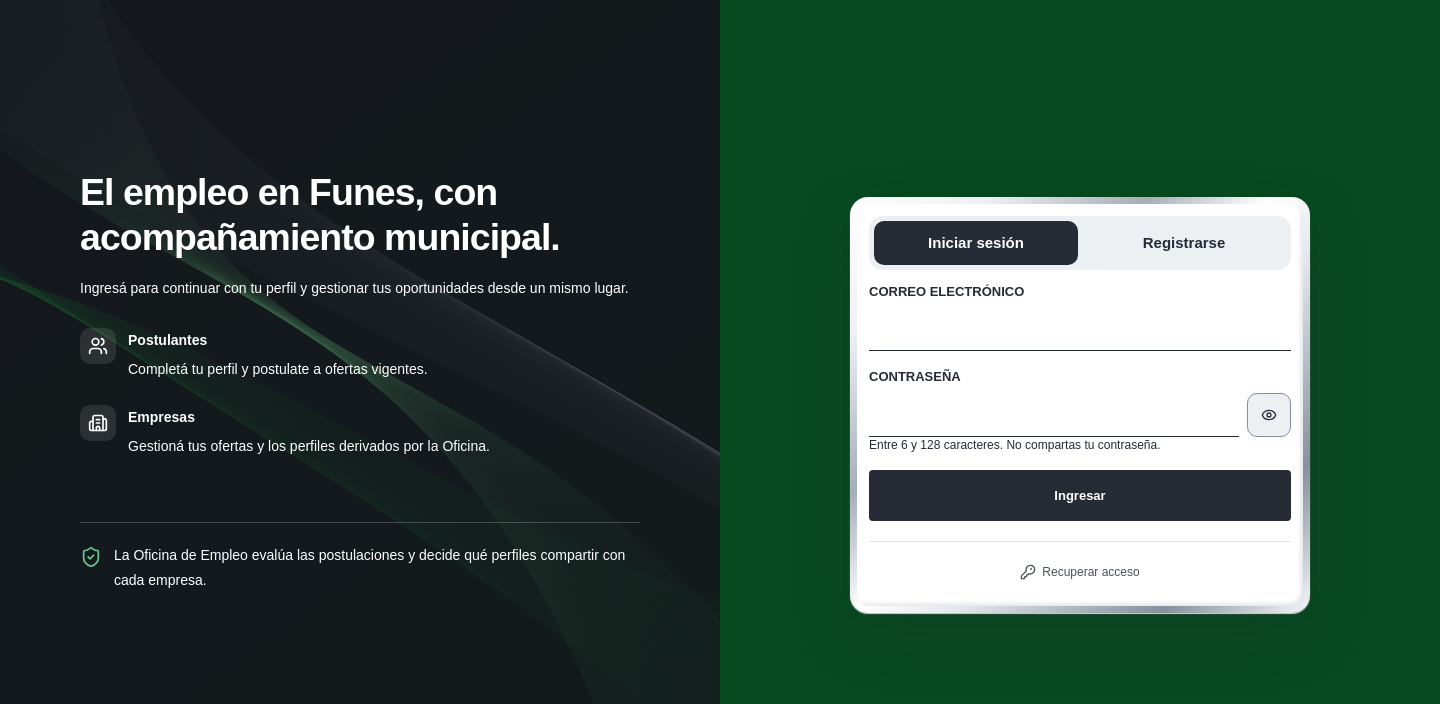
Home access panel › switches between candidate and company registration and back to sign-in
Click the button "Registrarse".
click(1184, 243)  # box [1082,221,1286,265]
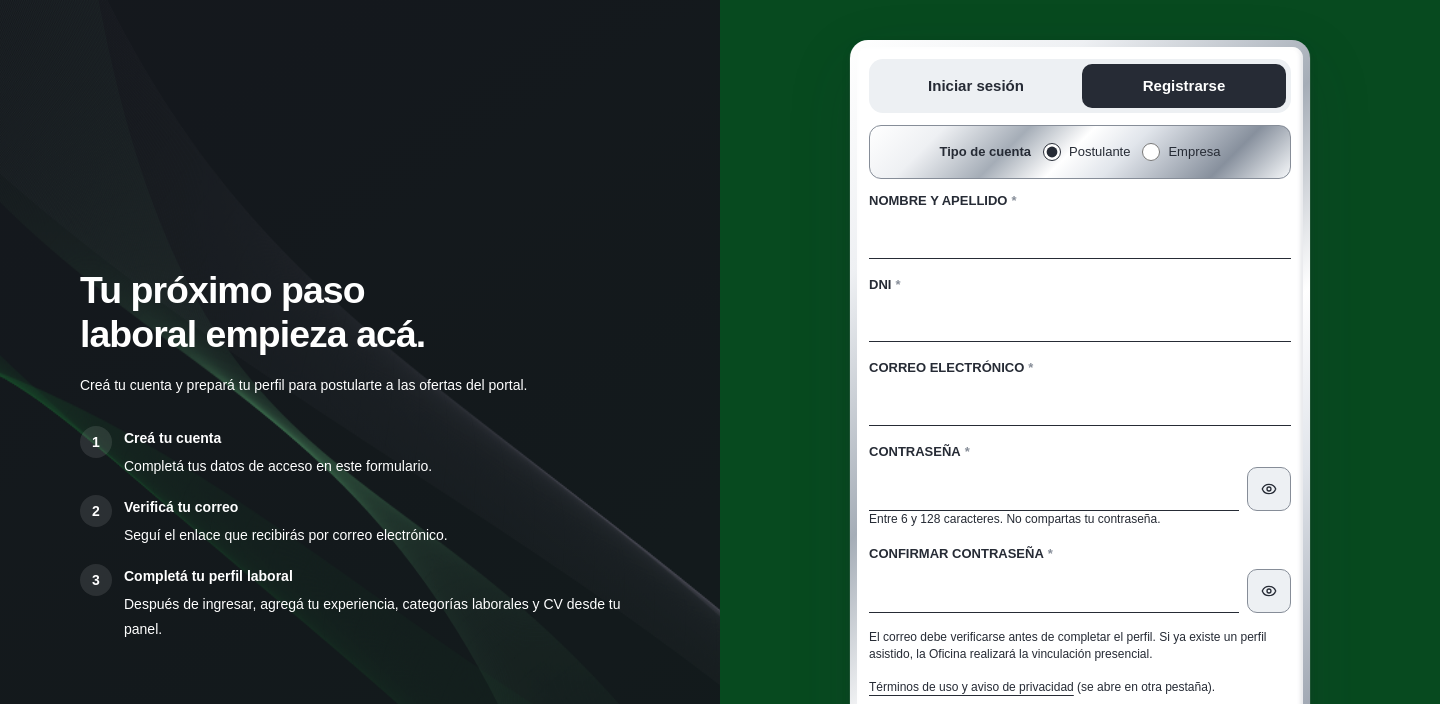
Expected: the element "Tipo de cuenta" is shown, [869,125,1291,179]
Expected: the radio button labelled "Postulante" is checked, [1043,143,1061,161]
Expected: the field labelled "DNI" is shown, [869,298,1291,342]
Click the radio button labelled "Empresa".
click(1152, 152)  # box [1142,143,1160,161]
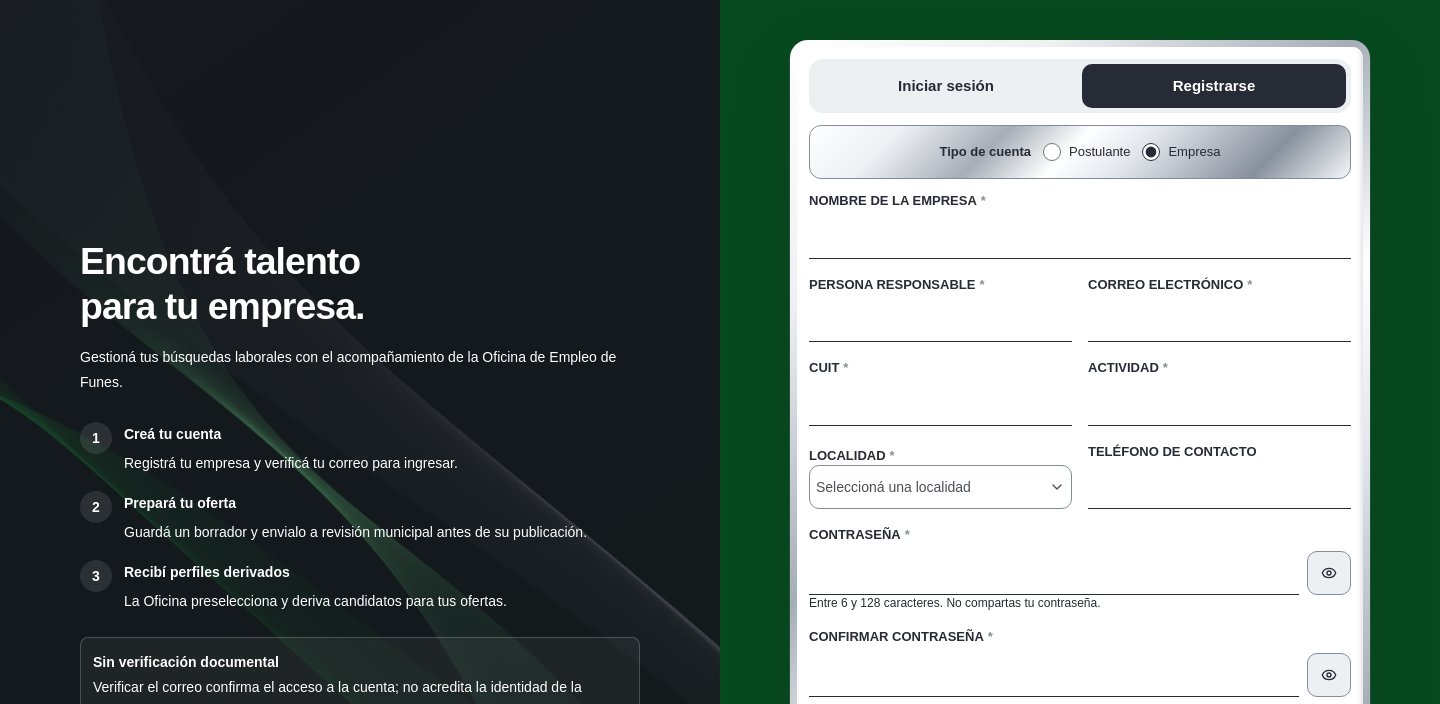
Expected: the field labelled "CUIT" is shown, [809,382,1072,426]
Expected: the text labelled "DNI" is gone
Click the button "Iniciar sesión".
click(946, 86)  # box [814,64,1078,108]
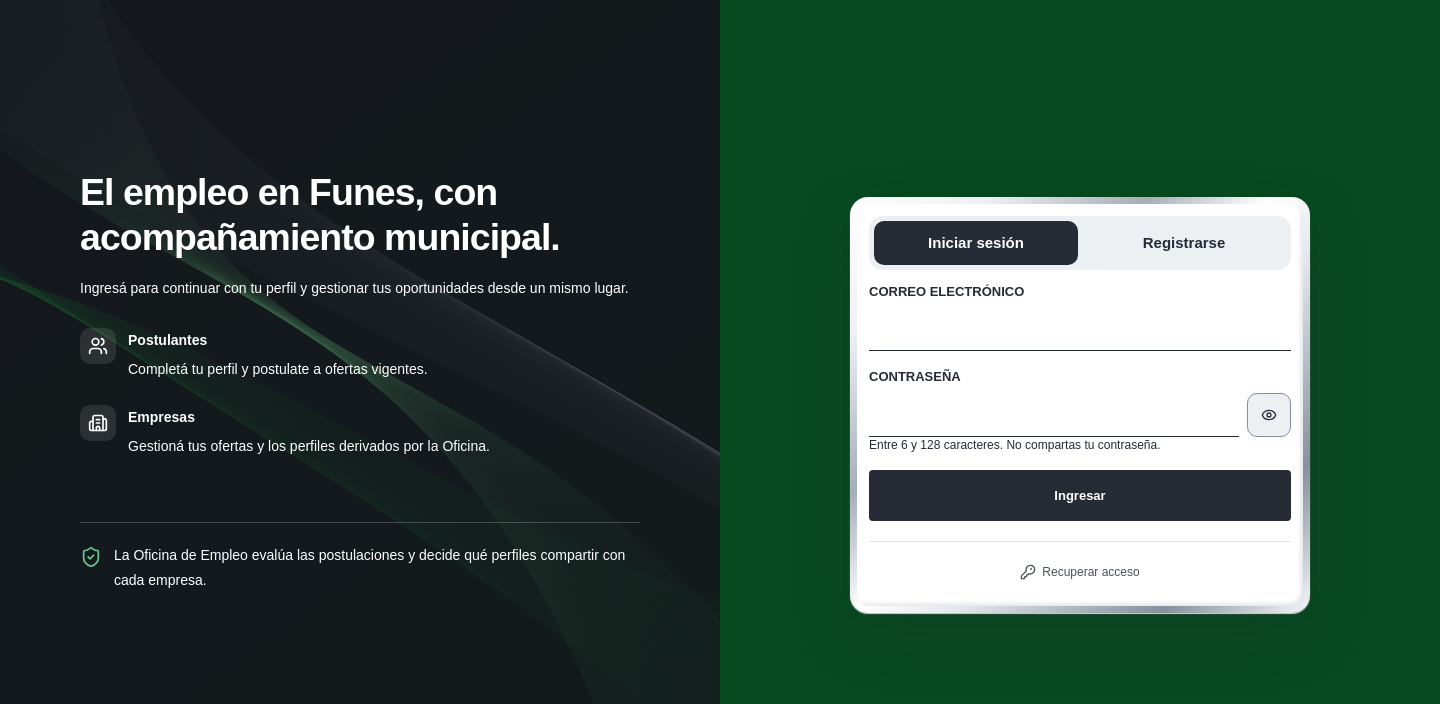
Expected: the button "Ingresar" is shown, [869,470,1291,521]
Expected: the text "Tipo de cuenta" is gone
